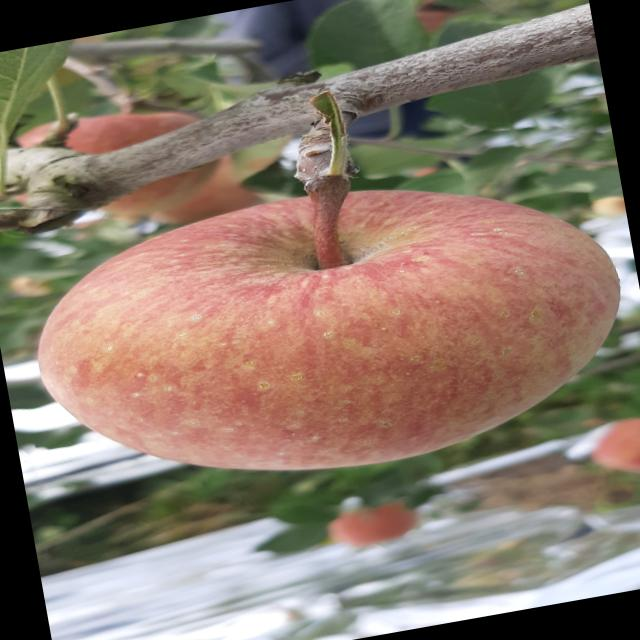fresh: (7, 135, 640, 526)
